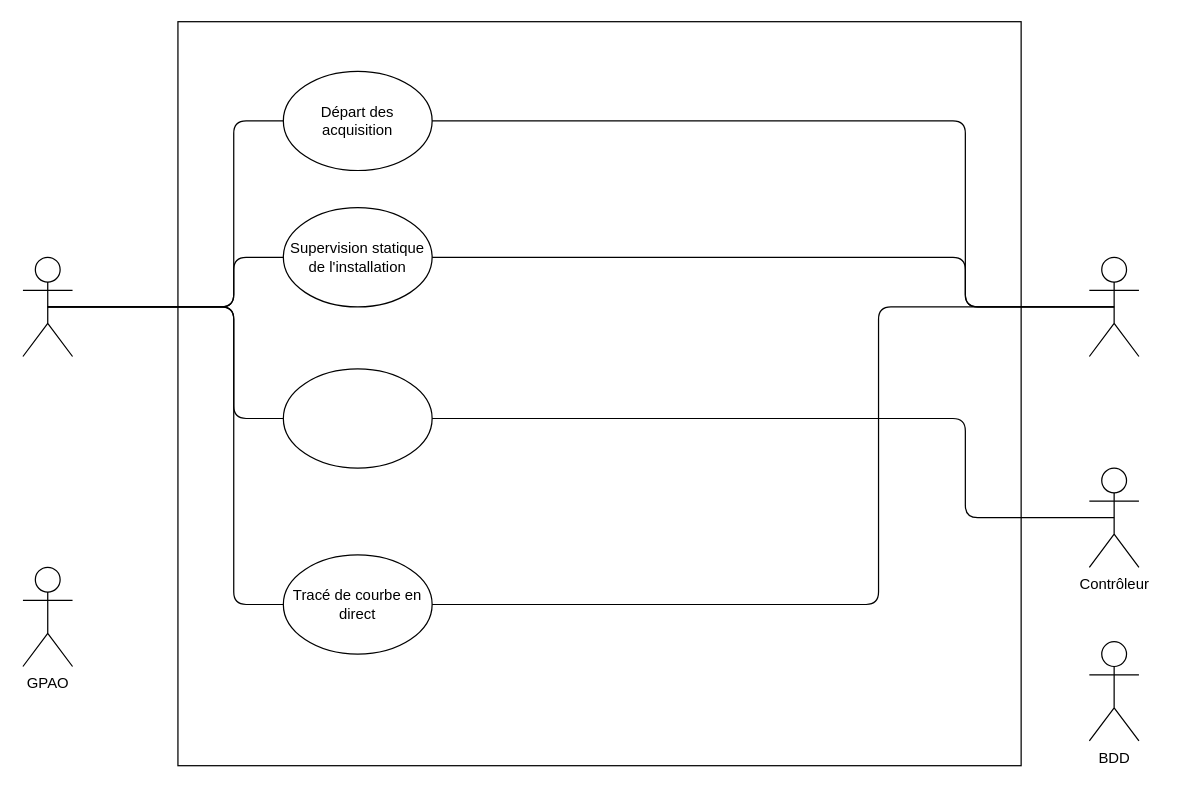
This 1178x789 diagram has some shape labels left out. Here are the shapes that lost their labels. From the top down, the centre of each, then its label:
At (47,306): "Thomas".
At (1113,306): "Manipulateur".
At (357,418): "Paramètrage des acquisitions".
